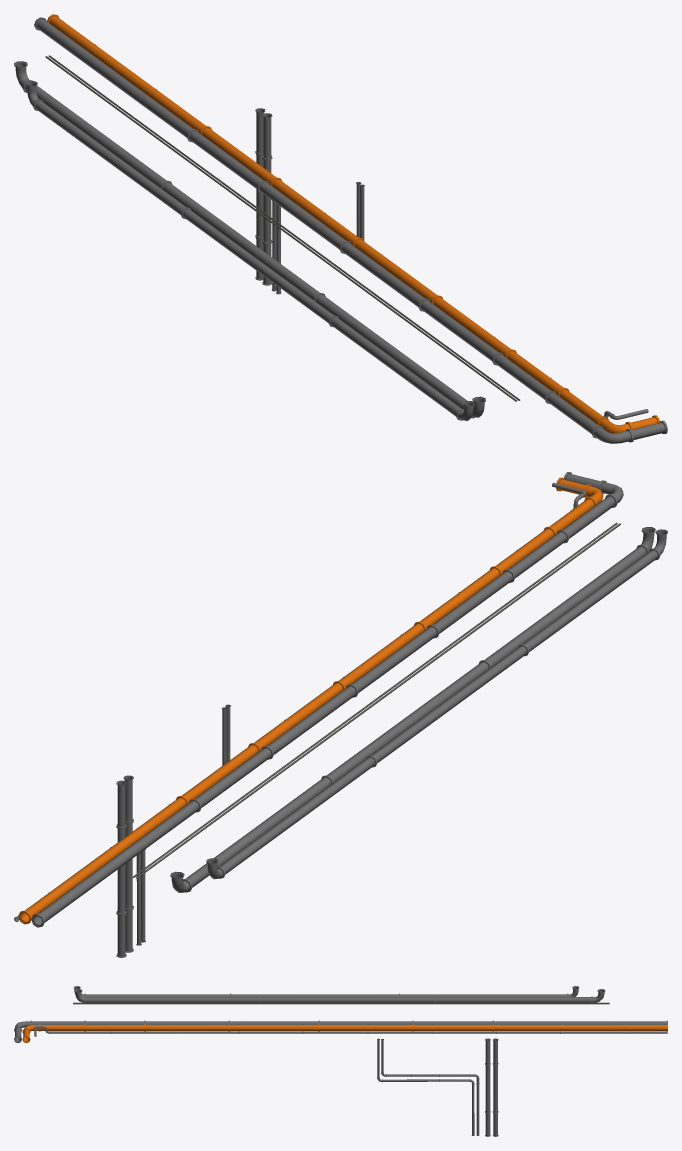
File: SM_H_Building_Tide_Corridor_05B_ATLAS.fbx
The picture shows the model from 3 angles, top to bottom: view 1: azimuth 30°, elevation 25°; view 2: azimuth 150°, elevation 25°; view 3: azimuth 270°, elevation 25°; orthographic projection. The views are drawn at different scales.
Parts seen in each view (by area): view 1: SM_H_Building_Tide_Corridor_05B_ATLAS; view 2: SM_H_Building_Tide_Corridor_05B_ATLAS; view 3: SM_H_Building_Tide_Corridor_05B_ATLAS.
Part boxes in pixels (box(x1,y1,x2,y2)): SM_H_Building_Tide_Corridor_05B_ATLAS: box(14, 14, 667, 443); SM_H_Building_Tide_Corridor_05B_ATLAS: box(14, 472, 667, 957); SM_H_Building_Tide_Corridor_05B_ATLAS: box(14, 986, 667, 1136).
Size of the model in its own units: 1066 by 6286 by 1105.
